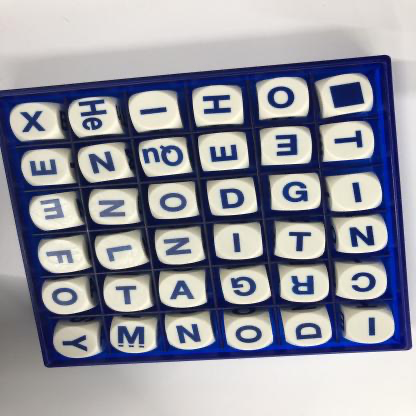a: (159, 273, 206, 307)
c: (337, 264, 388, 301)
d: (284, 312, 332, 348), (209, 181, 256, 216)
e: (262, 127, 312, 166), (199, 134, 249, 170), (22, 150, 68, 185), (30, 195, 76, 230)
f: (40, 238, 86, 274)
g: (270, 175, 322, 212), (221, 269, 270, 304)
h: (194, 85, 244, 124)
he: (70, 98, 118, 135)
i: (330, 176, 382, 212), (130, 92, 179, 129), (214, 225, 265, 260), (347, 309, 395, 345)
l: (98, 236, 144, 271)
m: (111, 321, 156, 354)
n: (337, 219, 387, 254), (91, 189, 138, 226), (156, 230, 204, 266), (80, 146, 127, 181), (166, 318, 212, 351)
o: (258, 79, 311, 117), (224, 315, 275, 351), (150, 184, 196, 220), (42, 282, 88, 315)
qu: (141, 140, 191, 175)
r: (279, 267, 330, 302)
t: (323, 124, 374, 161), (276, 223, 325, 259), (106, 278, 150, 312)
wild: (321, 75, 373, 114)
x: (11, 103, 58, 140)
y: (54, 327, 98, 359)
